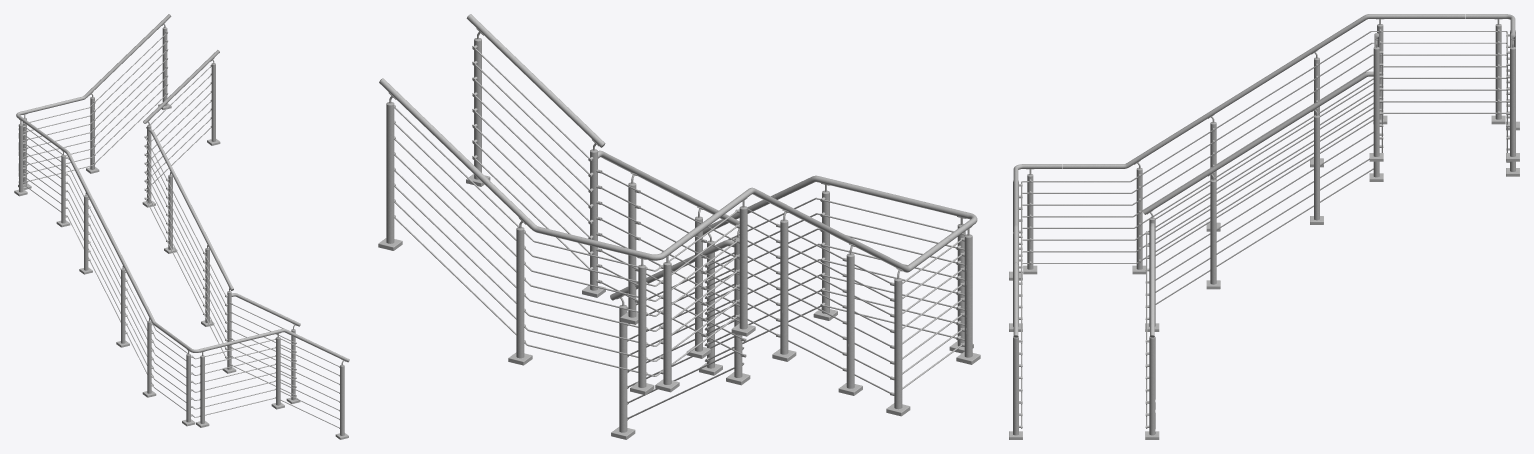
File: U-Shaped_Railing_Circum-Round_Midrail.gltf
The picture shows the model from 3 angles, left to right: view 1: azimuth 30°, elevation 25°; view 2: azimuth 150°, elevation 25°; view 3: azimuth 270°, elevation 25°; orthographic projection. The views are drawn at different scales.
Visible parts, largest first — view 1: LS103 & LS116 - Circum Round Post Material LS Material [8829 (×12), Nested_Midrail Bend (Visible) Generic [8829848]001, Nested_Midrail Bend (Visible) Generic [8829848], Nested_Bend Bend [8829914], Nested_Bend Bend [8719267]001, LS103 & LS116 - Circum Round Post Material LS Material [8828 (×2), Nested_Rail LS Material [8719249], Nested_Rail LS Material [8461322], Nested_Bend Bend [8719267]003, Nested_Rail LS Material [8719226]; view 2: LS103 & LS116 - Circum Round Post Material LS Material [8829 (×15), Nested_Midrail Bend (Visible) Generic [8829848]001, LS103 & LS116 - Circum Round Post Material LS Material [8828 (×3), Nested_Bend Bend [8829914], Nested_Midrail Bend (Visible) Generic [8829848], Nested_Rail LS Material [8461322], Nested_Bend Bend [8719267]003, Nested_Bend Bend [8719267]001, Nested_Rail LS Material [8719226], Nested_Bend Bend [8719259], Nested_Rail LS Material [8719249], Nested_Bend Bend [8719267] (+3 smaller); view 3: LS103 & LS116 - Circum Round Post Material LS Material [8829 (×6), Nested_Midrail Bend (Visible) Generic [8829848], LS103 & LS116 - Circum Round Post Material LS Material [8828 (×3), Nested_Bend Bend [8719267]001, Nested_Rail LS Material [8719249], Nested_Bend Bend [8719267], Nested_Bend Bend [8719259]001, Nested_Bend Bend [8719267]004.
Part boxes in pixels (x1=…): LS103 & LS116 - Circum Round Post Material LS Material [8829 (×12): x1=18, y1=29, x2=344, y2=435; Nested_Midrail Bend (Visible) Generic [8829848]001: x1=205, y1=338, x2=339, y2=428; Nested_Midrail Bend (Visible) Generic [8829848]: x1=24, y1=126, x2=89, y2=258; Nested_Bend Bend [8829914]: x1=28, y1=103, x2=93, y2=181; Nested_Bend Bend [8719267]001: x1=148, y1=129, x2=233, y2=289; LS103 & LS116 - Circum Round Post Material LS Material [8828 (×2): x1=168, y1=64, x2=215, y2=249; Nested_Rail LS Material [8719249]: x1=79, y1=176, x2=140, y2=293; Nested_Rail LS Material [8461322]: x1=143, y1=50, x2=219, y2=123; Nested_Bend Bend [8719267]003: x1=223, y1=328, x2=306, y2=346; Nested_Rail LS Material [8719226]: x1=109, y1=14, x2=170, y2=73; LS103 & LS116 - Circum Round Post Material LS Material [8829 (×15): x1=386, y1=104, x2=972, y2=409; Nested_Midrail Bend (Visible) Generic [8829848]001: x1=704, y1=197, x2=960, y2=361; LS103 & LS116 - Circum Round Post Material LS Material [8828 (×3): x1=474, y1=40, x2=636, y2=432; Nested_Bend Bend [8829914]: x1=525, y1=232, x2=638, y2=372; Nested_Midrail Bend (Visible) Generic [8829848]: x1=662, y1=209, x2=777, y2=370; Nested_Rail LS Material [8461322]: x1=467, y1=14, x2=604, y2=147; Nested_Bend Bend [8719267]003: x1=775, y1=175, x2=925, y2=207; Nested_Bend Bend [8719267]001: x1=598, y1=150, x2=739, y2=225; Nested_Rail LS Material [8719226]: x1=379, y1=78, x2=489, y2=185; Nested_Bend Bend [8719259]: x1=486, y1=182, x2=604, y2=248; Nested_Rail LS Material [8719249]: x1=774, y1=200, x2=882, y2=258; Nested_Bend Bend [8719267]: x1=687, y1=187, x2=776, y2=238; LS103 & LS116 - Circum Round Post Material LS Material [8829 (×6): x1=1013, y1=26, x2=1515, y2=435; Nested_Midrail Bend (Visible) Generic [8829848]: x1=1317, y1=31, x2=1497, y2=149; LS103 & LS116 - Circum Round Post Material LS Material [8828 (×3): x1=1149, y1=49, x2=1379, y2=435; Nested_Bend Bend [8719267]001: x1=1143, y1=71, x2=1373, y2=214; Nested_Rail LS Material [8719249]: x1=1167, y1=36, x2=1332, y2=141; Nested_Bend Bend [8719267]: x1=1331, y1=14, x2=1465, y2=39; Nested_Bend Bend [8719259]001: x1=1063, y1=138, x2=1168, y2=168; Nested_Bend Bend [8719267]004: x1=1150, y1=223, x2=1154, y2=335.
Bounding box in the file's own units: 1.99 × 3.48 × 3.95.
